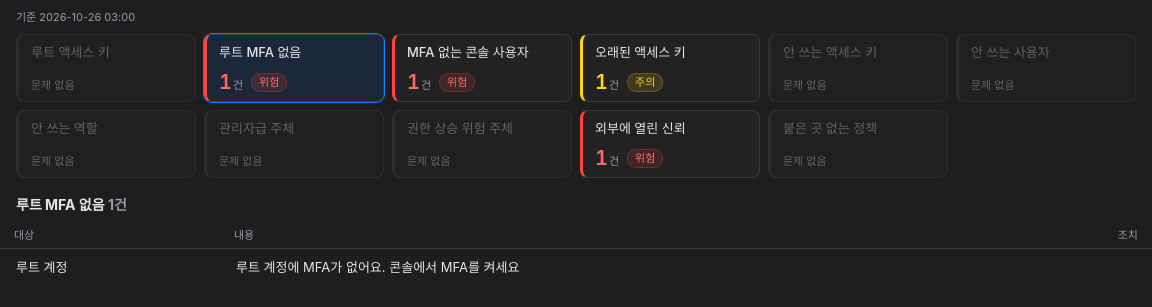
items › an item without a fix has no quick-fix button
Click the button "MFA 없는 콘솔 사용자 1건 위험" at (482, 68), box [392,34,572,102]
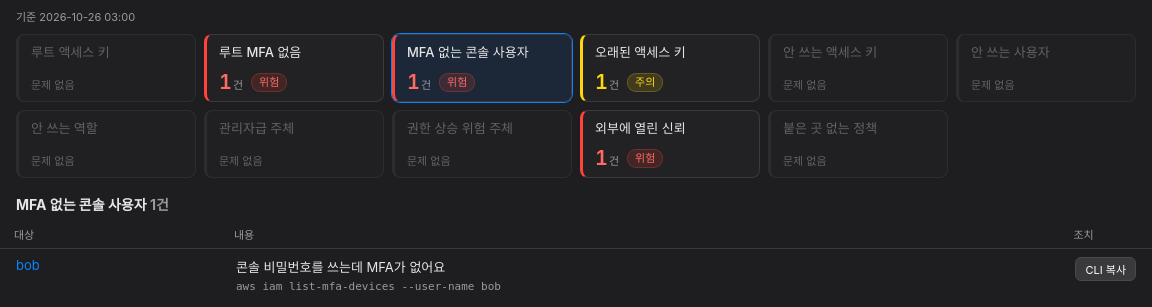
expect the buttons read "bob", "CLI 복사", in this order: met, box [16,257,40,273]; [1076,257,1136,281]
